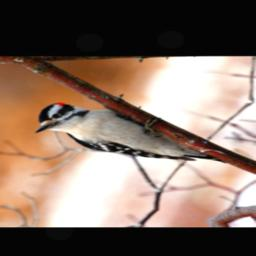Woodpecker: (27, 95, 244, 175)
